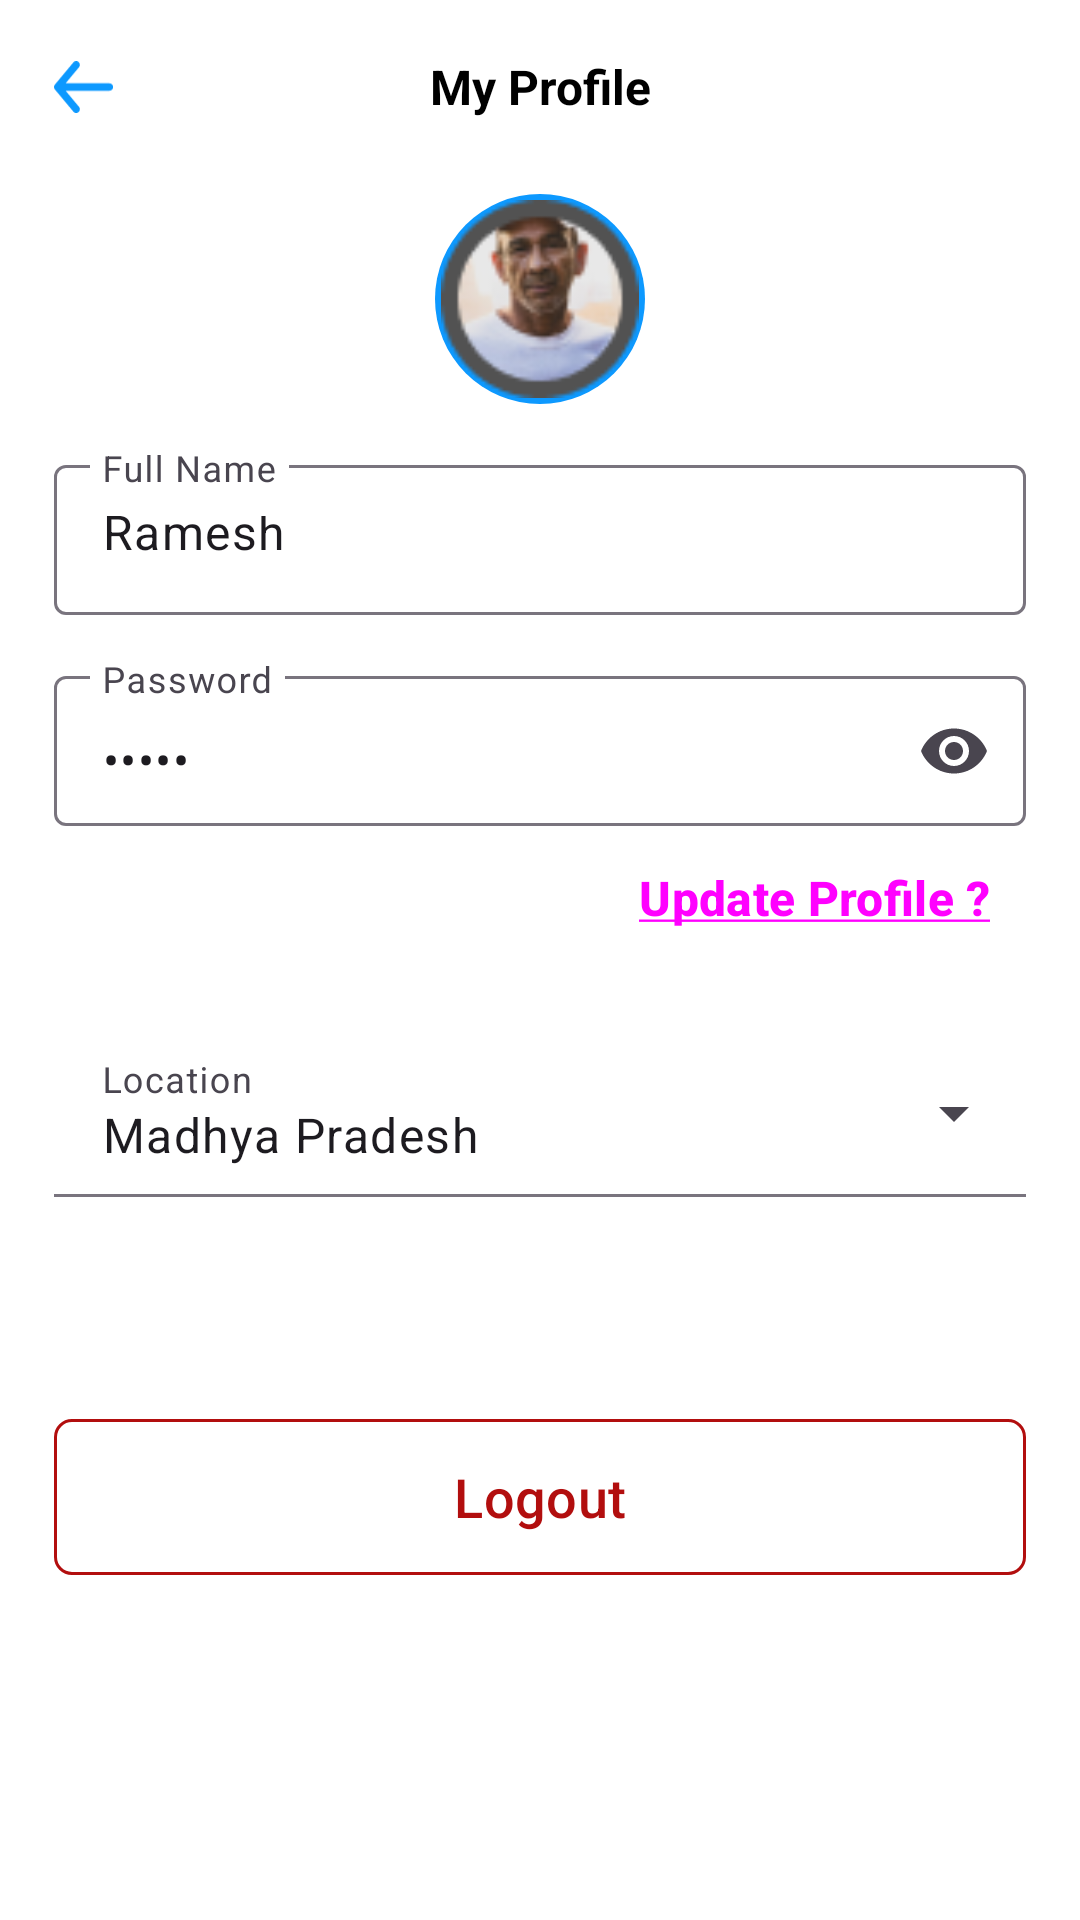

Icons on this 1080×1920 Android screen, each with the point to tap as [x,y]:
left arrow: [83,87]
